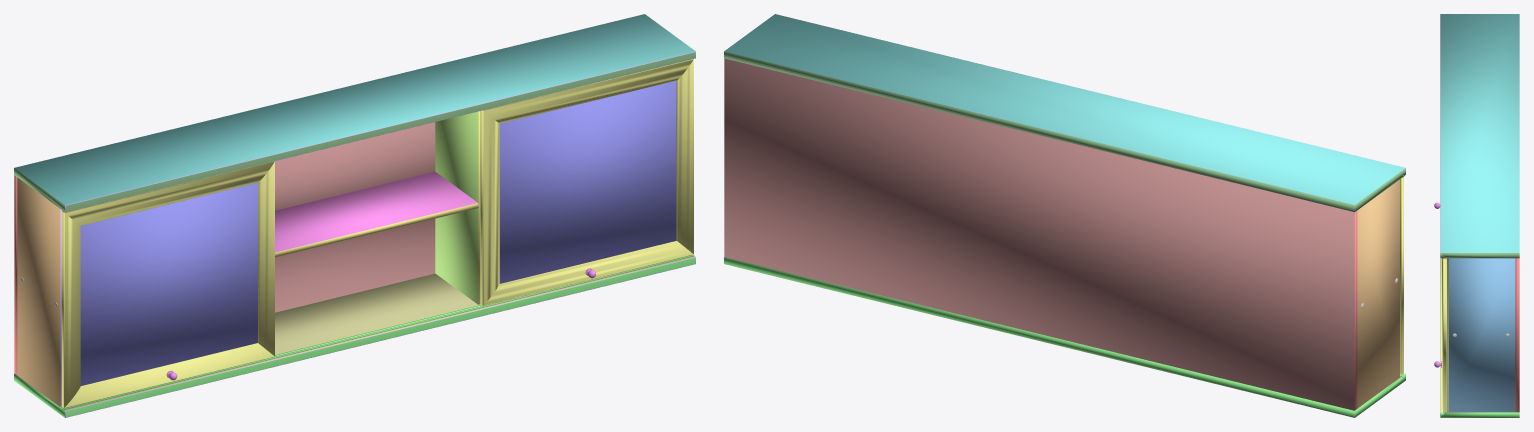
File: shelf1.gltf
3 renders of one model, left to right at view 1: azimuth 30°, elevation 25°; view 2: azimuth 150°, elevation 25°; view 3: azimuth 270°, elevation 25°, orthographic. The views are drawn at different scales.
Visible parts, largest first — view 1: shelf1; view 2: shelf1; view 3: shelf1.
Boxes of the visible parts, x1,y1,x2,y2 form: shelf1: (14, 14, 695, 417); shelf1: (724, 14, 1405, 417); shelf1: (1434, 14, 1519, 417).
Bounding box in the file's own units: 4.06 × 1.31 × 0.6142.
